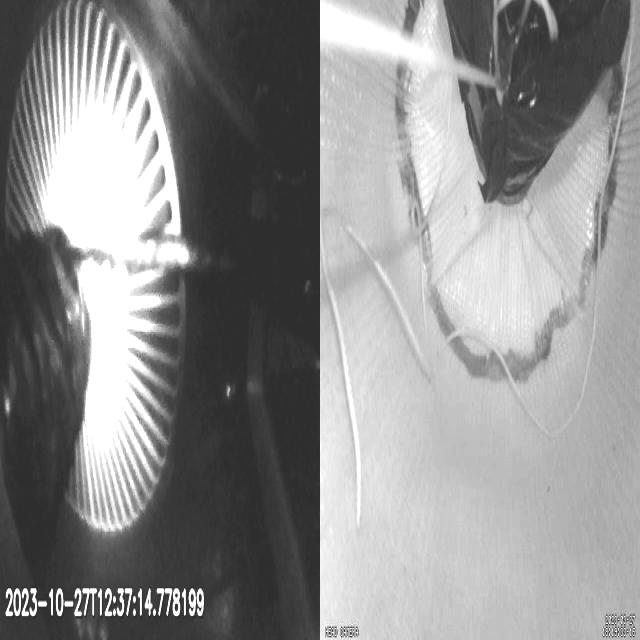red-circle: (394, 2, 626, 384)
